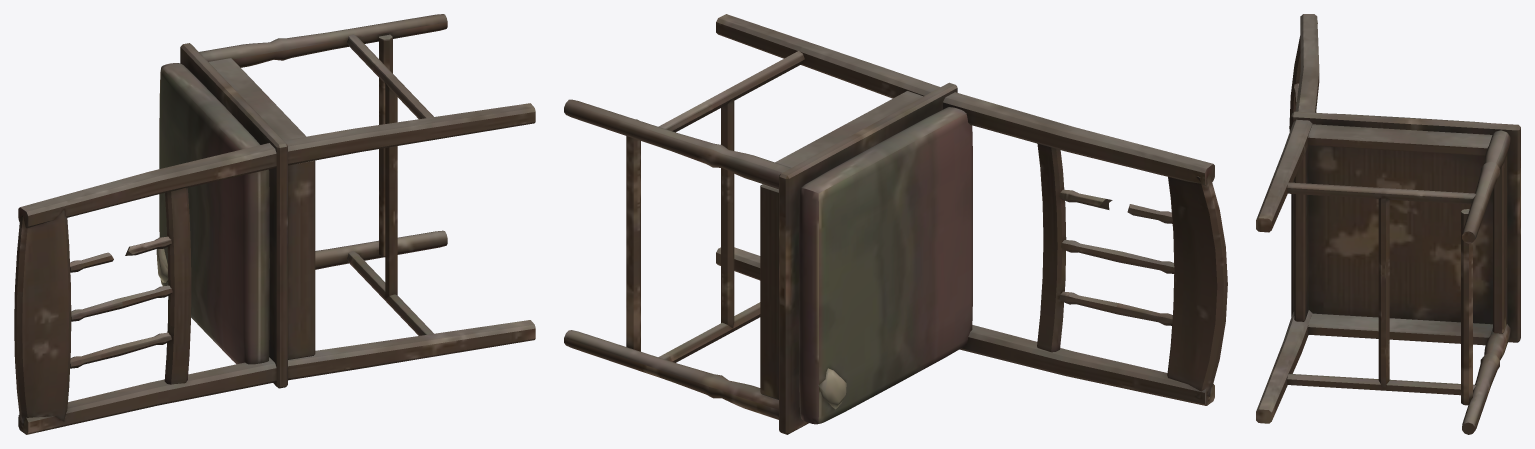
The model's file is dressing_chair_fallen.glb.
3 views of the same model, side by side, from view 1: azimuth 30°, elevation 25°; view 2: azimuth 150°, elevation 25°; view 3: azimuth 270°, elevation 25° (orthographic). The views are drawn at different scales.
Visible parts, largest first — view 1: dressing_chair_fallen; view 2: dressing_chair_fallen; view 3: dressing_chair_fallen.
Boxes of the visible parts, x1,y1,x2,y2 form: dressing_chair_fallen: (14, 14, 535, 434); dressing_chair_fallen: (564, 14, 1227, 434); dressing_chair_fallen: (1256, 14, 1520, 434).
Bounding box in the file's own units: 0.9733 × 0.432 × 0.4818.
Materials: 1 (1 with a texture image).
